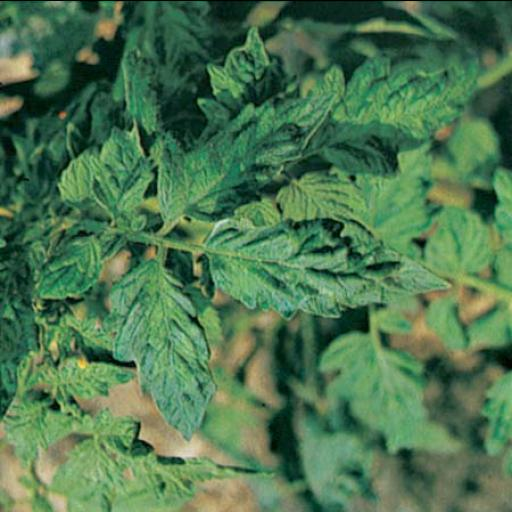disease_tomato: (210, 205, 444, 318), (154, 91, 332, 228), (310, 44, 478, 174), (112, 260, 220, 430), (102, 116, 152, 234), (40, 226, 112, 296)
